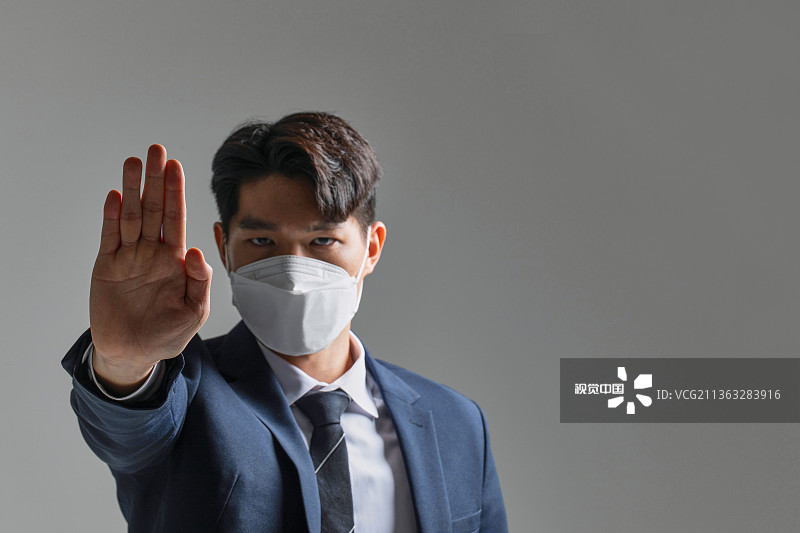no-phone: (74, 131, 228, 388)
